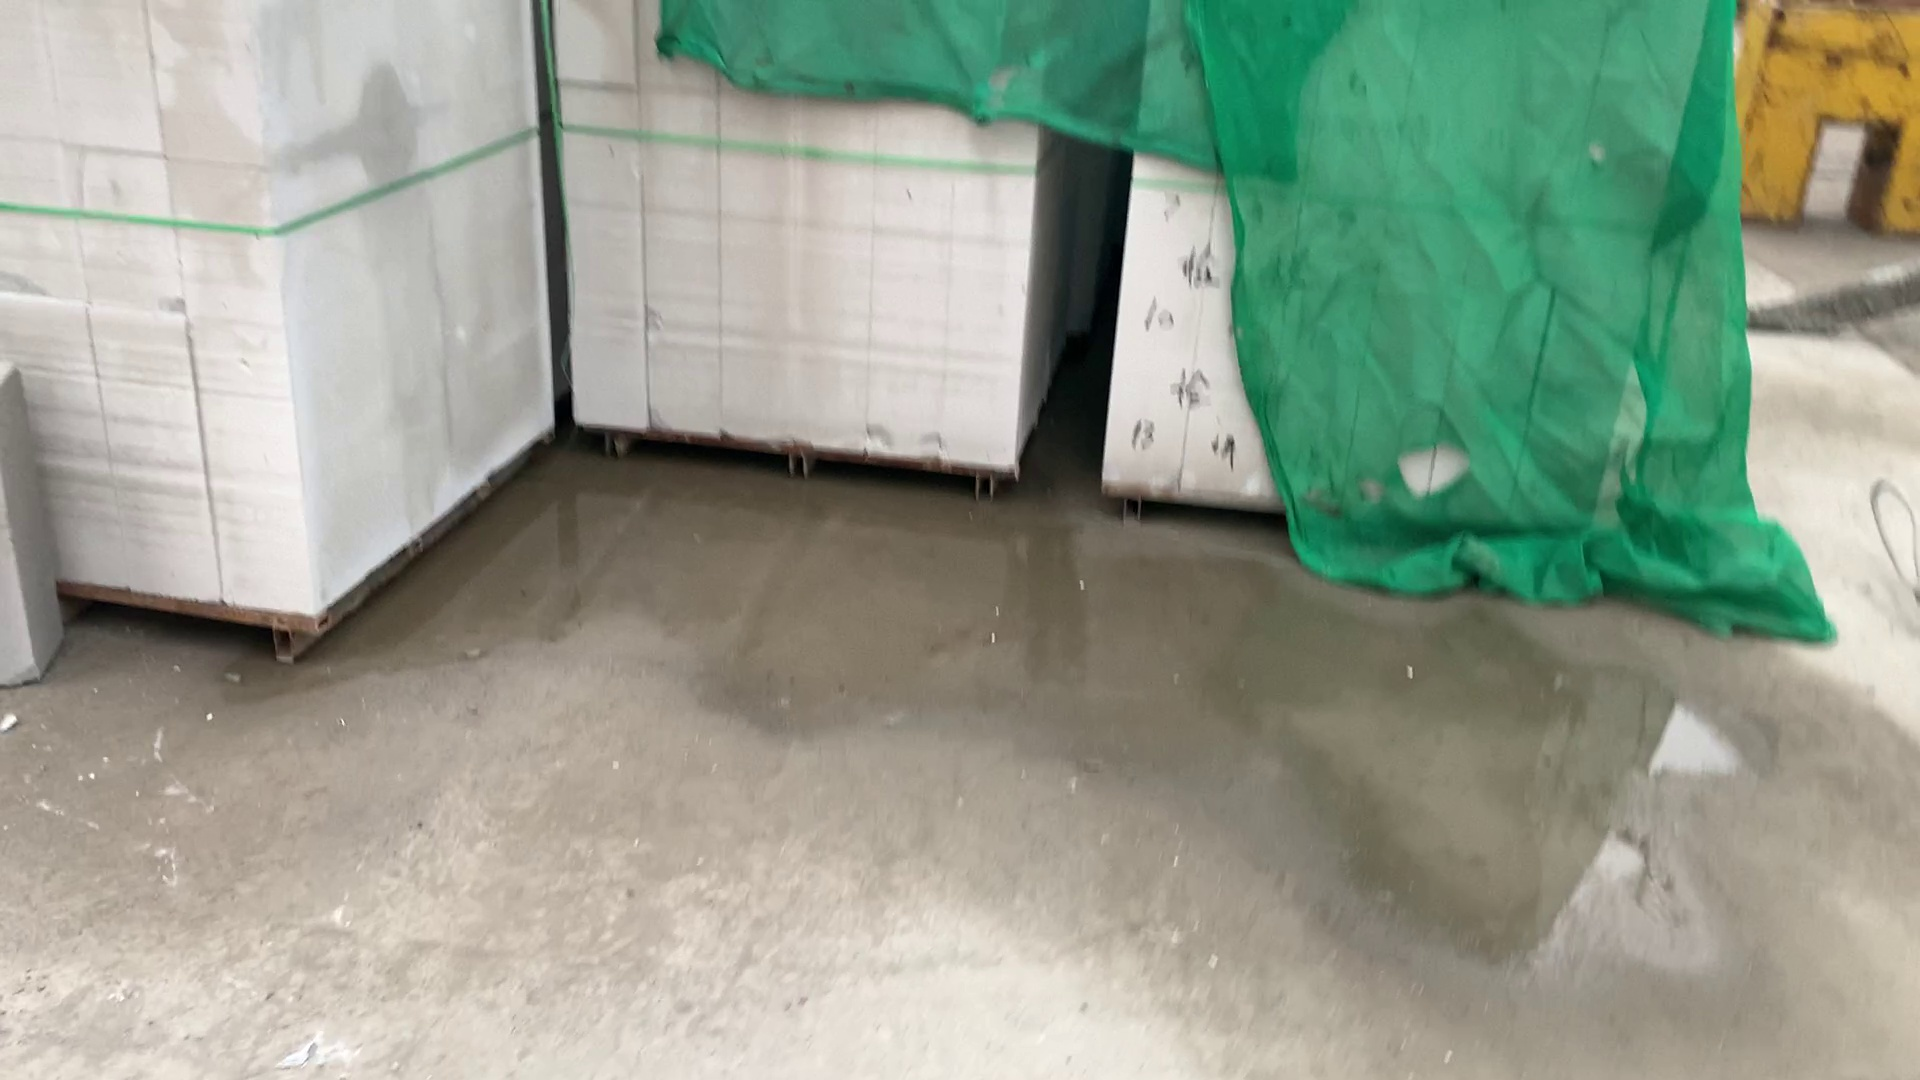brickwork: (3, 11, 549, 661), (1116, 3, 1684, 529), (549, 7, 1068, 488)
